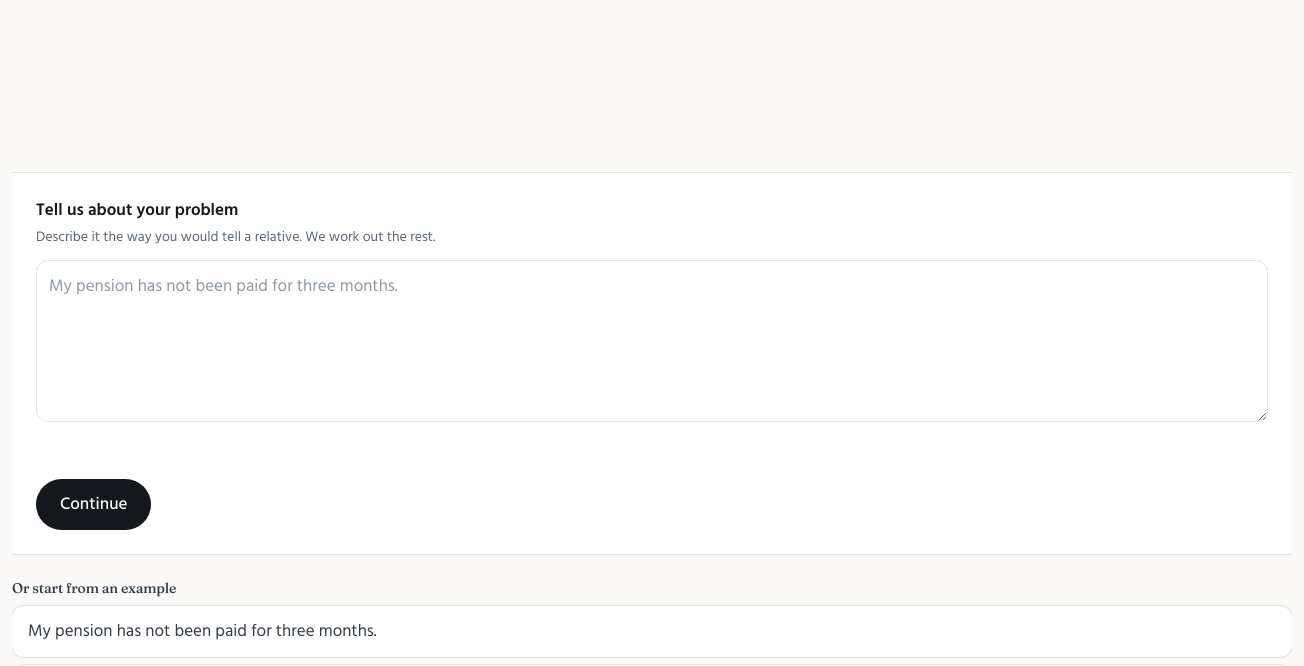
it: Clarify › asks which domain when two are contested, rather than guessing
(page scrolled)
Step 1. Type "my pension and passport are both delayed" into the text box labelled "Tell us about your problem" → (652, 341), box [36,260,1268,422]
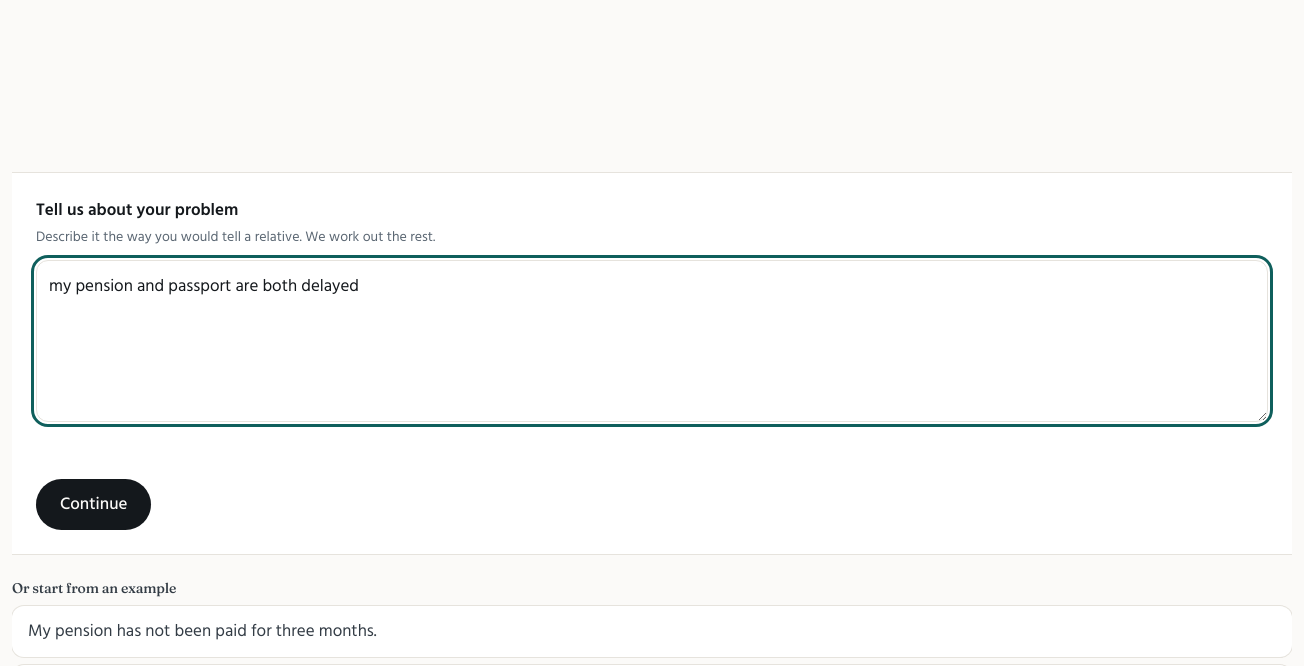
Step 2. Click the button "Continue" → click(94, 504), box [36,479,151,530]
(page scrolled)
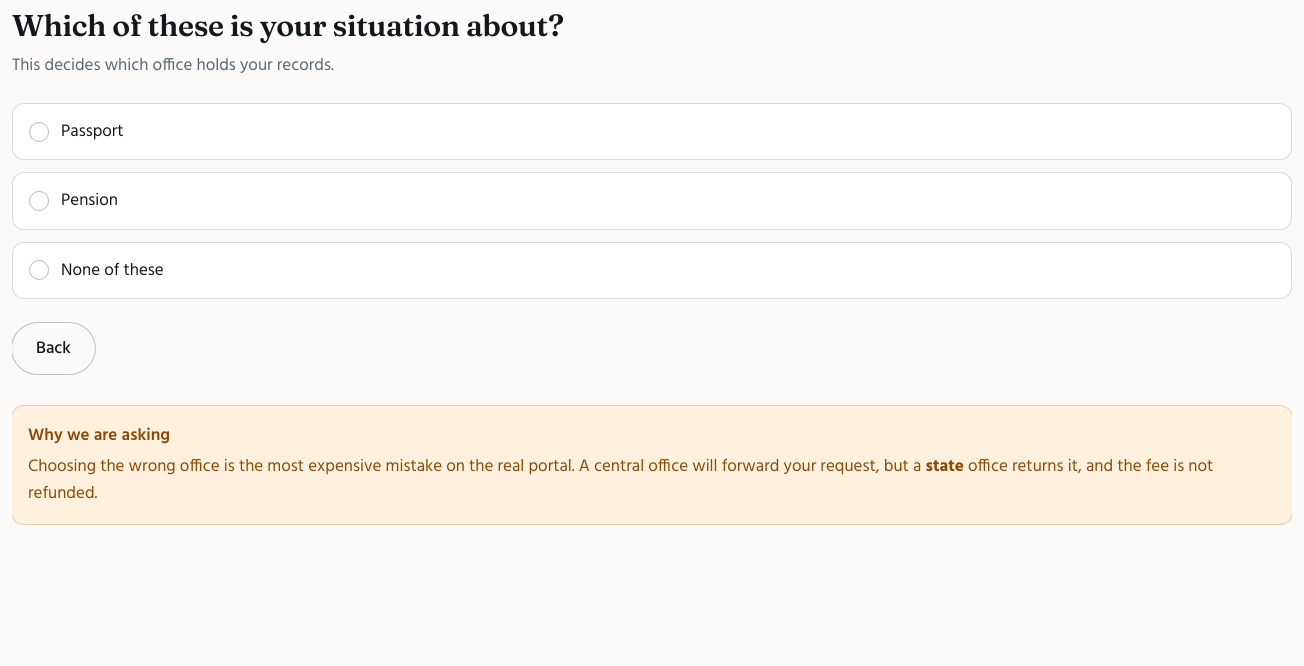
Expected: the radio button labelled "Passport" is shown, [12,103,1292,160]
Now the radio button labelled "None of these" is shown, box [12,242,1292,299]
